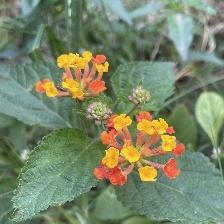common lanthana: (94, 109, 190, 189)
